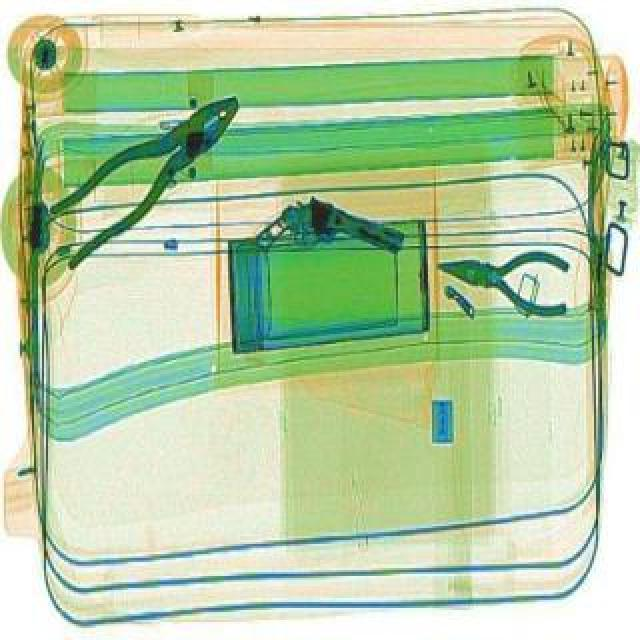gun: (254, 188, 410, 296)
wrench: (26, 80, 266, 276), (430, 240, 578, 324)
